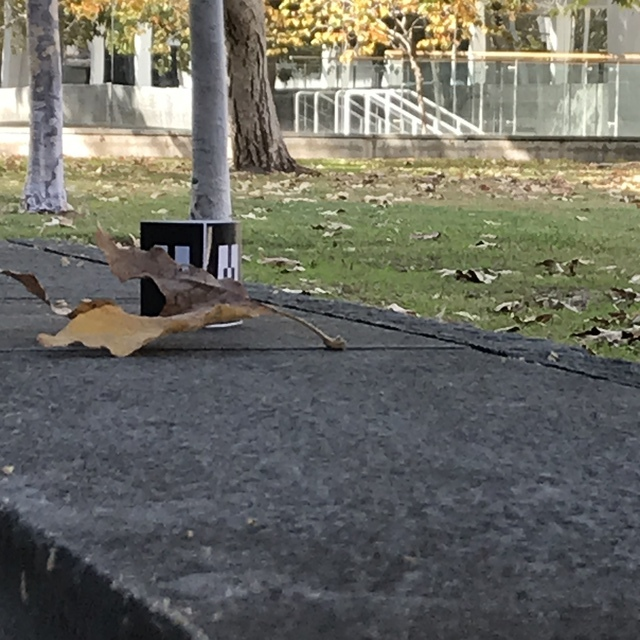ARTag: (140, 220, 243, 329)
